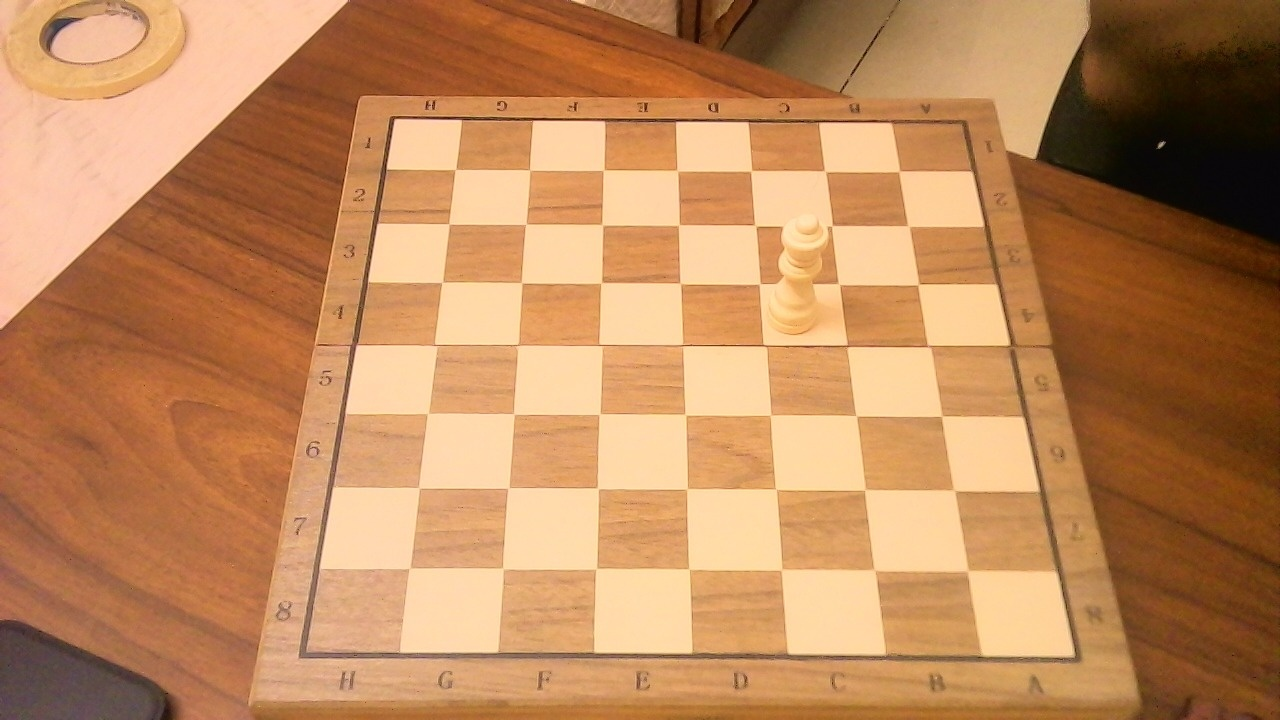Q: (766, 202, 838, 340)
